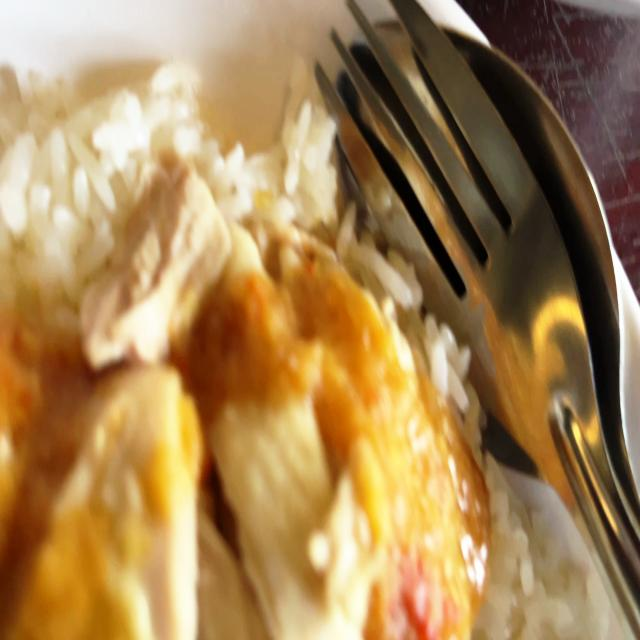boiled_chicken: (0, 201, 476, 640)
chicken_rice: (0, 0, 590, 640)
